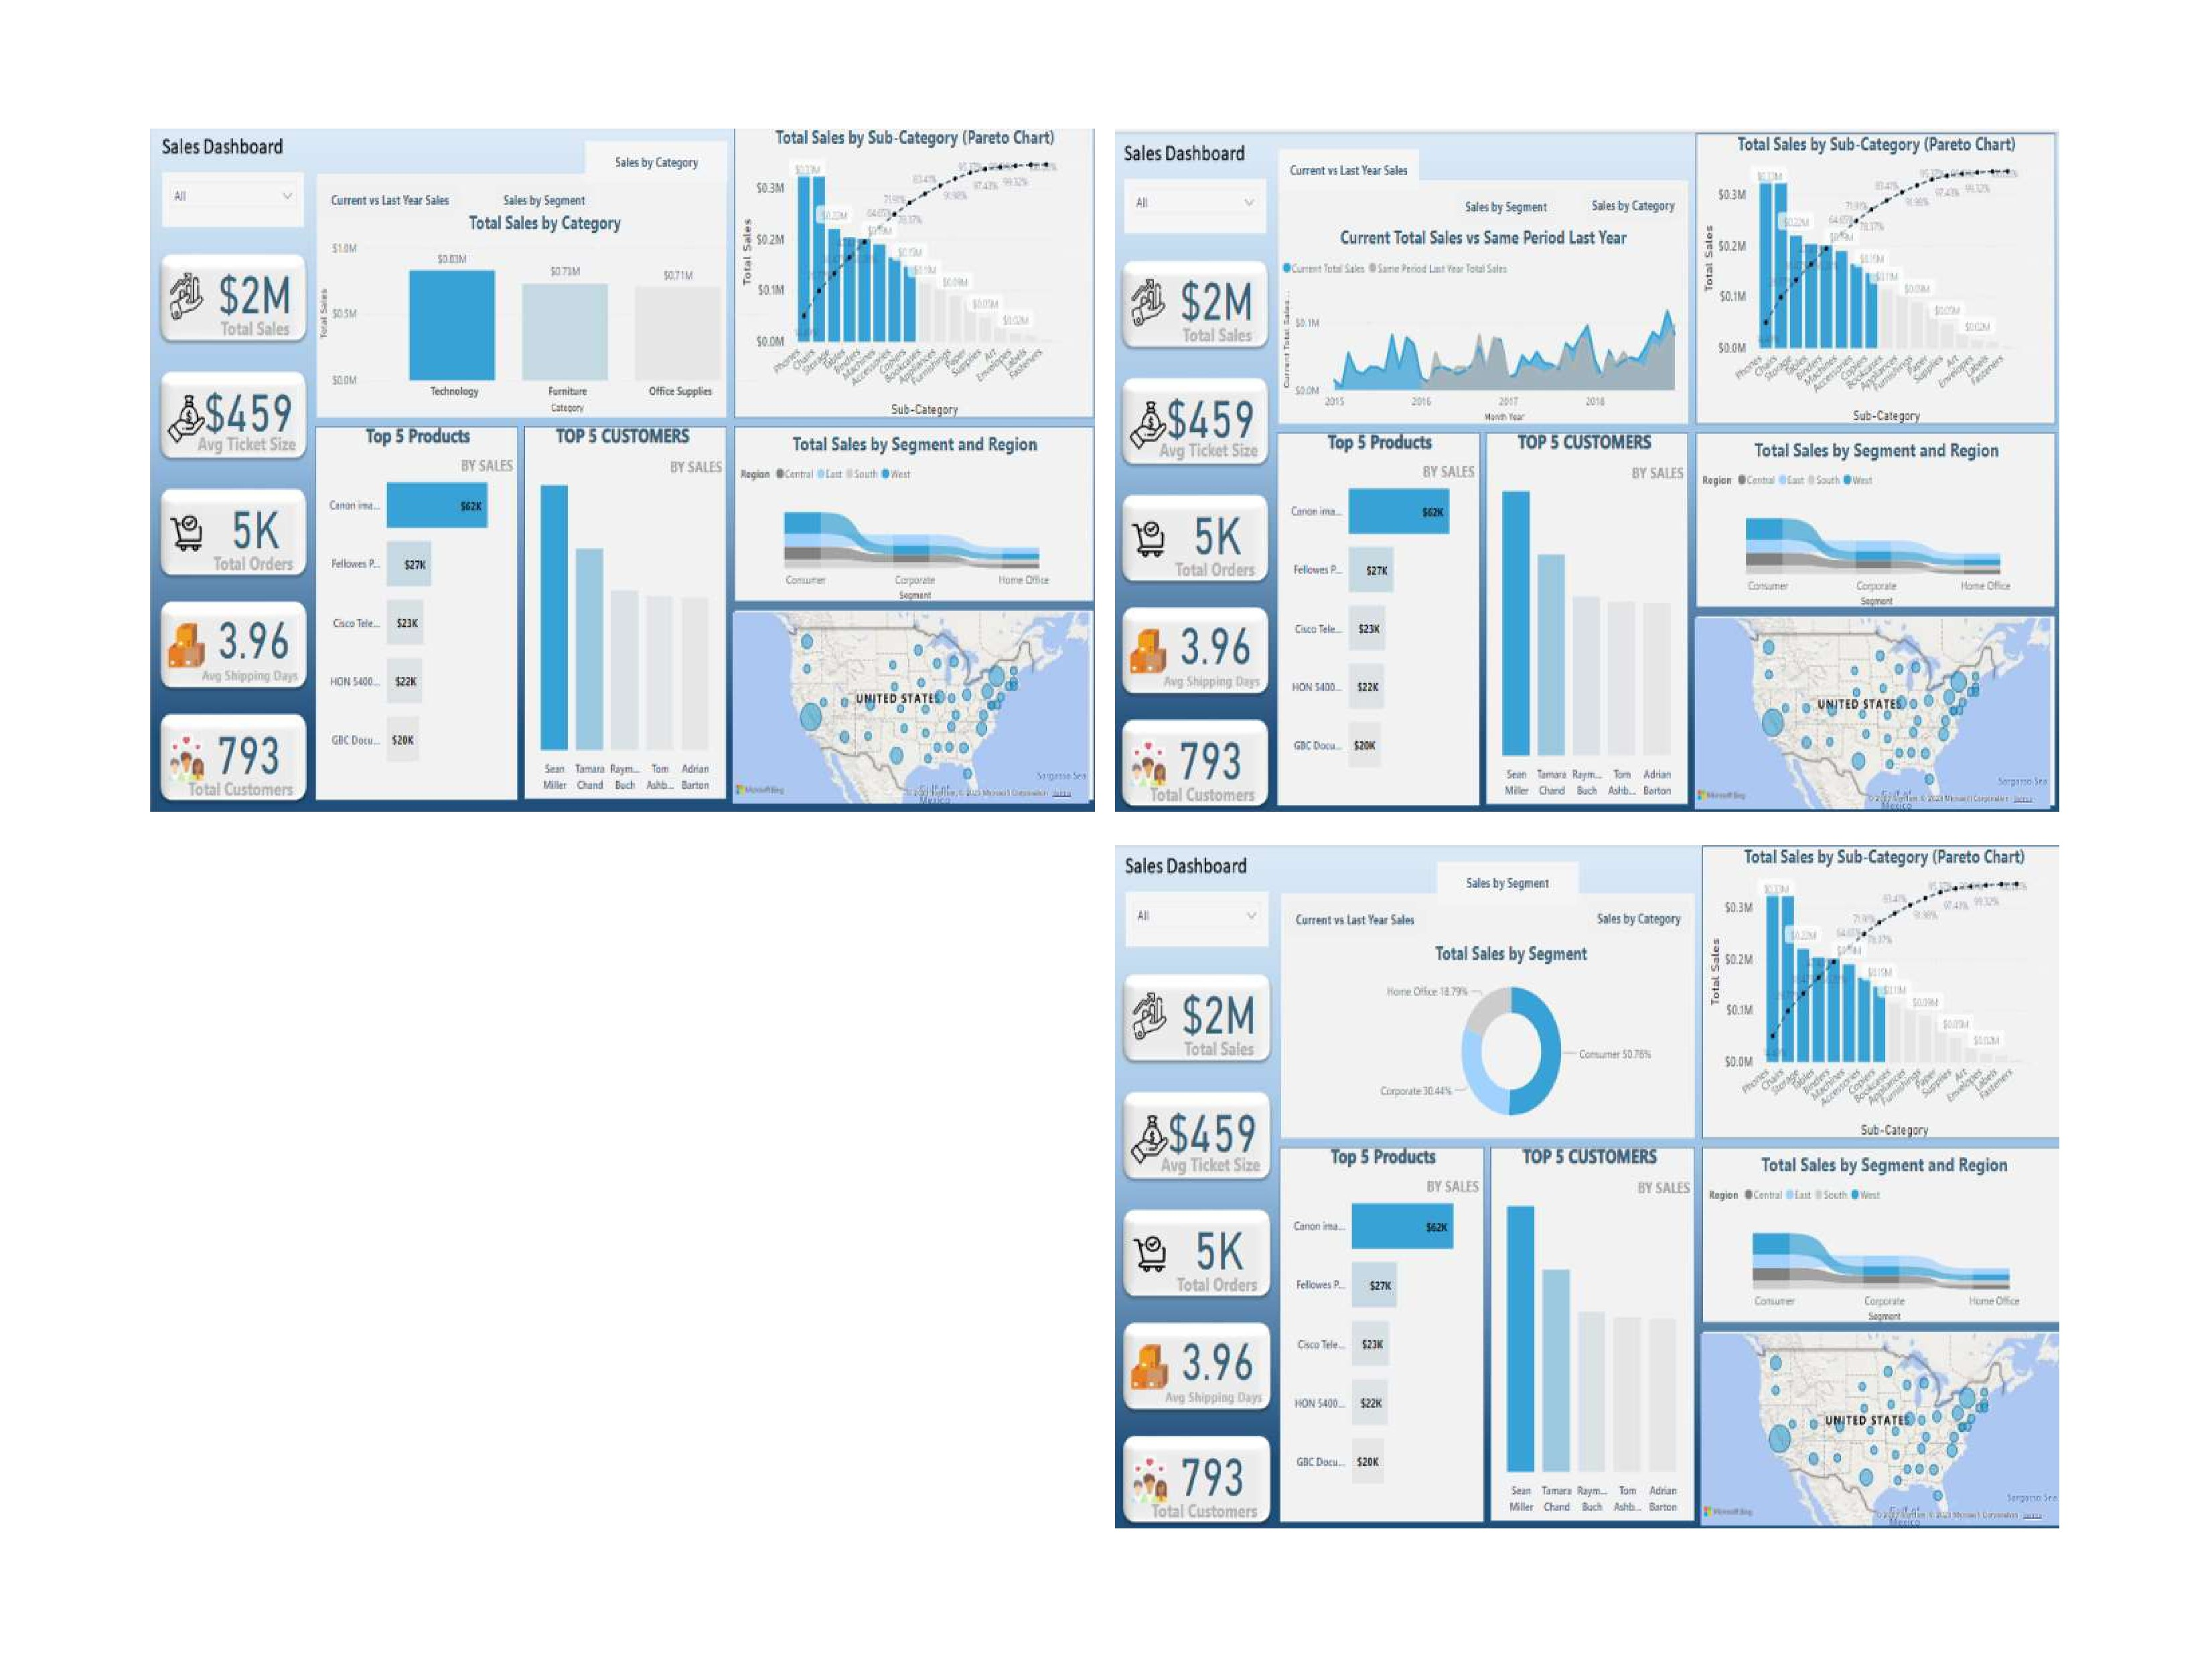

The page's visual inventory and layout, read from the dashboard file:
{"tool":"powerbi","page":{"name":"Page 1","canvas":[1280,720],"ordinal":0},"visuals":[{"type":"card","fields":{"Values":["Measure Table.Total Sales"]},"box":[73.7,136.7,133.2,66.6],"z":0},{"type":"textbox","box":[89.3,193.4,133.2,36.9],"z":1000},{"type":"textbox","box":[58,314.1,154,48],"z":2000},{"type":"card","fields":{"Values":["Measure Table.Total Orders"]},"box":[73.9,381.8,133.2,66.6],"z":3000},{"type":"textbox","box":[79.4,438.4,133.2,36.9],"z":4000},{"type":"textbox","box":[63.8,557.4,151.7,35.4],"z":5000},{"type":"textbox","box":[45.4,673.2,161.6,35.4],"z":6000},{"type":"card","fields":{"Values":["Measure Table.Total Customers"]},"box":[65.4,616.8,133.2,66.6],"z":7000},{"type":"card","fields":{"Values":["Measure Table.Avg Shipping Day"]},"box":[70.9,497.9,136.1,65.2],"z":8000},{"type":"map","fields":{"Category":["dim_customer.State","dim_customer.City"],"Size":["Measure Table.Total Sales"]},"box":[778.1,501.7,490.4,209.8],"z":9000},{"type":"clusteredColumnChart","title":"TOP 5 CUSTOMERS","fields":{"Category":["dim_customer.Customer Name"],"Y":["Measure Table.Total Sales @ Top 5 Customers"]},"box":[494.6,309,280.6,394],"z":10000},{"type":"clusteredBarChart","title":"Top 5 Products","fields":{"Y":["Measure Table.Total Sales @ Top 5 Products"],"Category":["dim_product.Product Name"]},"box":[223.9,309,272.1,385.5],"z":11000},{"type":"textbox","box":[694.5,340.2,95,42.5],"z":12000},{"type":"textbox","box":[412.4,338.7,95,42.5],"z":13000},{"type":"areaChart","title":"Current Total Sales vs Same Period Last Year","fields":{"Category":["dim_calendar.Date (bins)"],"Y":["Measure Table.Total Sales","Measure Table.Total Sales @ Same Period Last Year"]},"box":[223.9,97.8,551.3,211.2],"z":14000},{"type":"ribbonChart","title":"Total Sales by Segment and Region","fields":{"Category":["dim_customer.Segment"],"Y":["Measure Table.Total Sales"],"Series":["dim_customer.Region"]},"box":[789.4,317.5,479.1,184.3],"z":15000},{"type":"card","fields":{"Values":["Measure Table.Avg Ticket Size"]},"box":[65.4,260,133.2,66.6],"z":16000},{"type":"lineStackedColumnComboChart","title":"Total Sales by Sub-Category (Pareto Chart)","fields":{"Category":["dim_product.Sub-Category"],"Y2":["Measure Table.% Running Total Sales"],"Y":["Measure Table.Total Sales"]},"box":[789.4,0,479.1,309],"z":17000},{"type":"actionButton","title":"UnSelectedSalesbySegment","box":[456.4,56.7,146,42.5],"z":19000},{"type":"actionButton","title":"UnSelectedSalesbyCategory","box":[626.5,55.3,148.8,42.5],"z":20000},{"type":"actionButton","title":"SelectedCurrentvsLastYear","box":[223.9,18.4,188.5,42.5],"z":22000},{"type":"slicer","fields":{"Values":["dim_calendar.Year"]},"box":[15.6,49.6,191.3,56.7],"z":26000}]}

Visuals, with their boxes on the page's 1280x720 design canvas (x1, y1, x2, y2). These are canvas units, not pixel positions in the 2212x1661 screenshot, which may show the page scaled, cropped or inside an application window:
card - Measure Table.Total Sales: 74, 137, 207, 203
textbox: 89, 193, 222, 230
textbox: 58, 314, 212, 362
card - Measure Table.Total Orders: 74, 382, 207, 448
textbox: 79, 438, 213, 475
textbox: 64, 557, 216, 593
textbox: 45, 673, 207, 709
card - Measure Table.Total Customers: 65, 617, 199, 683
card - Measure Table.Avg Shipping Day: 71, 498, 207, 563
map - dim_customer.State x dim_customer.City: 778, 502, 1268, 712
"TOP 5 CUSTOMERS" clusteredColumnChart: 495, 309, 775, 703
"Top 5 Products" clusteredBarChart: 224, 309, 496, 694
textbox: 694, 340, 790, 383
textbox: 412, 339, 507, 381
"Current Total Sales vs Same Period Last Year" areaChart: 224, 98, 775, 309
"Total Sales by Segment and Region" ribbonChart: 789, 318, 1268, 502
card - Measure Table.Avg Ticket Size: 65, 260, 199, 327
"Total Sales by Sub-Category (Pareto Chart)" lineStackedColumnComboChart: 789, 0, 1268, 309
"UnSelectedSalesbySegment" actionButton: 456, 57, 602, 99
"UnSelectedSalesbyCategory" actionButton: 626, 55, 775, 98
"SelectedCurrentvsLastYear" actionButton: 224, 18, 412, 61
slicer - dim_calendar.Year: 16, 50, 207, 106
